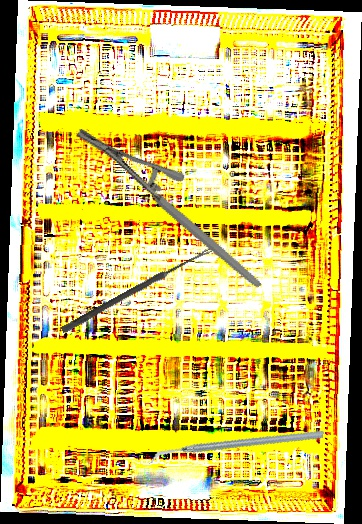Chopper: (149, 383, 325, 511)
Needle Holder: (73, 88, 262, 329)
Surgical Spoon: (60, 245, 213, 335)
